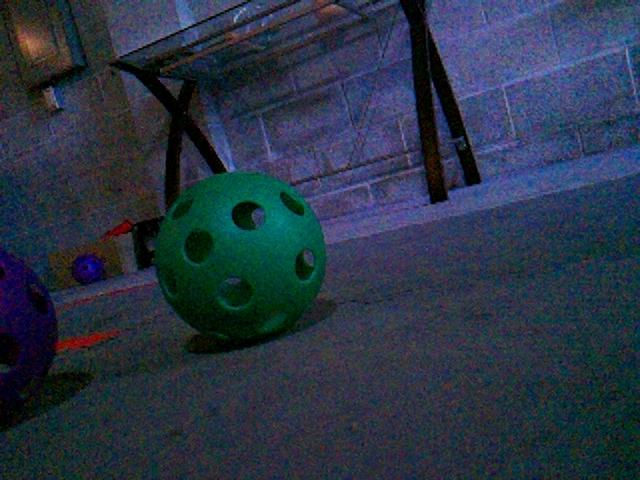Green: (152, 172, 326, 343)
Purple: (0, 242, 58, 421), (70, 253, 107, 286)
